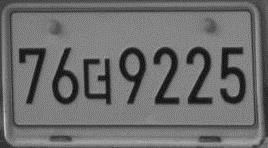2: (184, 46, 214, 106), (151, 46, 181, 105)
5: (218, 44, 247, 105)
6: (50, 46, 79, 104)
7: (15, 46, 47, 104)
9: (117, 46, 148, 106)
더: (81, 56, 113, 105)
